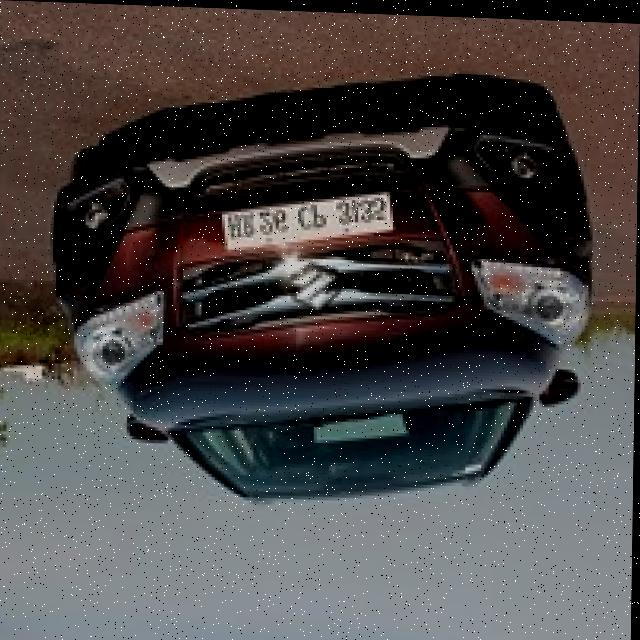plate: (220, 176, 394, 260)
